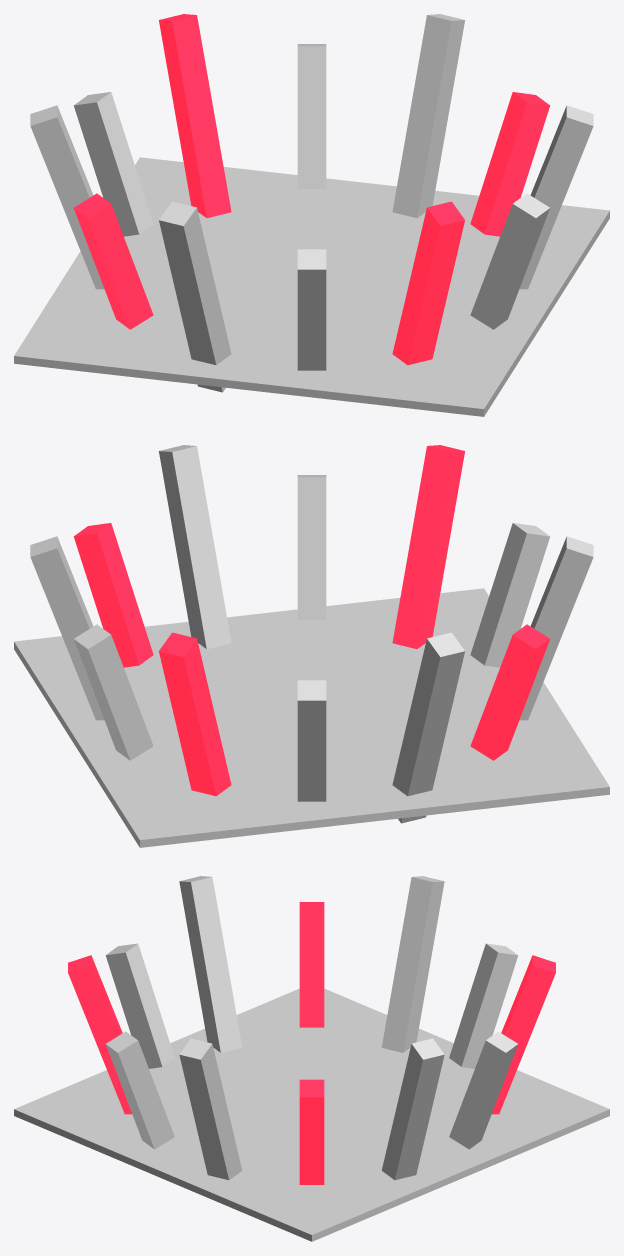
The model's file is FXDarkAura.fbx.
3 renders of one model, top to bottom at view 1: azimuth 30°, elevation 25°; view 2: azimuth 150°, elevation 25°; view 3: azimuth 270°, elevation 25°, orthographic. The views are drawn at different scales.
Visible parts, largest first — view 1: FX Dark Aura_body_12, FX Dark Aura_body_1, FX Dark Aura_body_3, FX Dark Aura_body_7, FX Dark Aura_body_9, FX Dark Aura_body_0, FX Dark Aura_body_4, FX Dark Aura_body_10, FX Dark Aura_body_6, FX Dark Aura_body_2, FX Dark Aura_body_11, FX Dark Aura_body_5 (+1 smaller); view 2: FX Dark Aura_body_12, FX Dark Aura_body_11, FX Dark Aura_body_9, FX Dark Aura_body_5, FX Dark Aura_body_3, FX Dark Aura_body_0, FX Dark Aura_body_8, FX Dark Aura_body_2, FX Dark Aura_body_6, FX Dark Aura_body_10, FX Dark Aura_body_1, FX Dark Aura_body_7 (+1 smaller); view 3: FX Dark Aura_body_12, FX Dark Aura_body_5, FX Dark Aura_body_7, FX Dark Aura_body_1, FX Dark Aura_body_11, FX Dark Aura_body_4, FX Dark Aura_body_8, FX Dark Aura_body_10, FX Dark Aura_body_2, FX Dark Aura_body_6, FX Dark Aura_body_3, FX Dark Aura_body_9 (+1 smaller).
Part boxes in pixels (x1=…): FX Dark Aura_body_12: x1=14, y1=157, x2=609, y2=416; FX Dark Aura_body_1: x1=392, y1=14, x2=464, y2=217; FX Dark Aura_body_3: x1=159, y1=14, x2=231, y2=217; FX Dark Aura_body_7: x1=159, y1=201, x2=231, y2=392; FX Dark Aura_body_9: x1=392, y1=201, x2=464, y2=365; FX Dark Aura_body_0: x1=470, y1=92, x2=550, y2=236; FX Dark Aura_body_4: x1=73, y1=92, x2=153, y2=236; FX Dark Aura_body_10: x1=470, y1=193, x2=549, y2=329; FX Dark Aura_body_6: x1=74, y1=193, x2=153, y2=329; FX Dark Aura_body_2: x1=297, y1=44, x2=326, y2=188; FX Dark Aura_body_11: x1=519, y1=105, x2=593, y2=289; FX Dark Aura_body_5: x1=30, y1=105, x2=104, y2=289; FX Dark Aura_body_12: x1=14, y1=588, x2=609, y2=847; FX Dark Aura_body_11: x1=159, y1=445, x2=231, y2=648; FX Dark Aura_body_9: x1=392, y1=445, x2=464, y2=648; FX Dark Aura_body_5: x1=392, y1=632, x2=464, y2=823; FX Dark Aura_body_3: x1=159, y1=632, x2=231, y2=796; FX Dark Aura_body_0: x1=73, y1=523, x2=153, y2=667; FX Dark Aura_body_8: x1=470, y1=523, x2=550, y2=667; FX Dark Aura_body_2: x1=74, y1=624, x2=153, y2=760; FX Dark Aura_body_6: x1=470, y1=624, x2=549, y2=760; FX Dark Aura_body_10: x1=297, y1=475, x2=326, y2=619; FX Dark Aura_body_1: x1=30, y1=536, x2=104, y2=720; FX Dark Aura_body_7: x1=519, y1=536, x2=593, y2=720; FX Dark Aura_body_12: x1=14, y1=988, x2=609, y2=1241; FX Dark Aura_body_5: x1=381, y1=876, x2=444, y2=1052; FX Dark Aura_body_7: x1=179, y1=876, x2=242, y2=1052; FX Dark Aura_body_1: x1=381, y1=1038, x2=444, y2=1180; FX Dark Aura_body_11: x1=179, y1=1038, x2=242, y2=1180; FX Dark Aura_body_4: x1=449, y1=943, x2=518, y2=1068; FX Dark Aura_body_8: x1=105, y1=943, x2=174, y2=1068; FX Dark Aura_body_10: x1=105, y1=1031, x2=174, y2=1149; FX Dark Aura_body_2: x1=449, y1=1031, x2=518, y2=1149; FX Dark Aura_body_6: x1=299, y1=902, x2=324, y2=1027; FX Dark Aura_body_3: x1=492, y1=955, x2=555, y2=1114; FX Dark Aura_body_9: x1=68, y1=955, x2=131, y2=1114.
Size of the model in its own units: 481 by 157 by 481.
